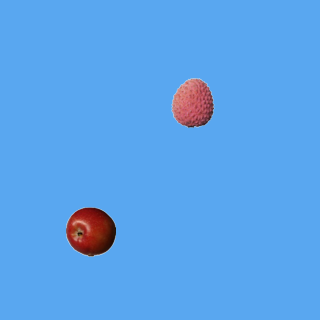Apple Braeburn: (65, 206, 115, 256)
Lychee: (167, 77, 217, 127)
